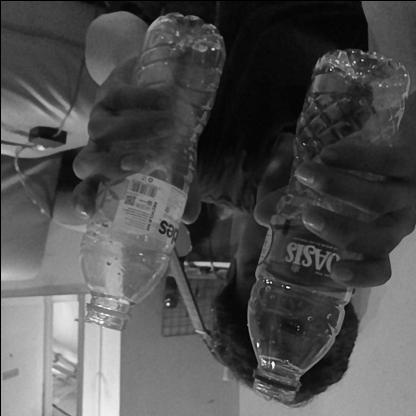plastic_bottles: (249, 56, 412, 396), (85, 9, 233, 335)
